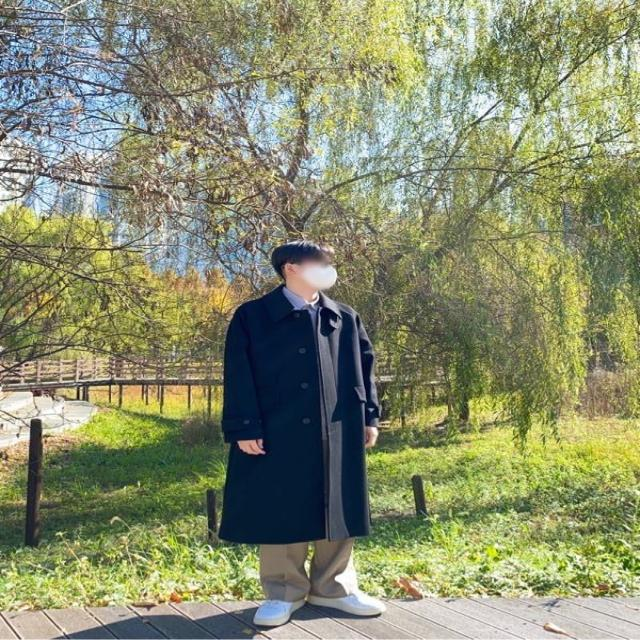coat: (219, 288, 381, 543)
slacks: (256, 533, 359, 603)
